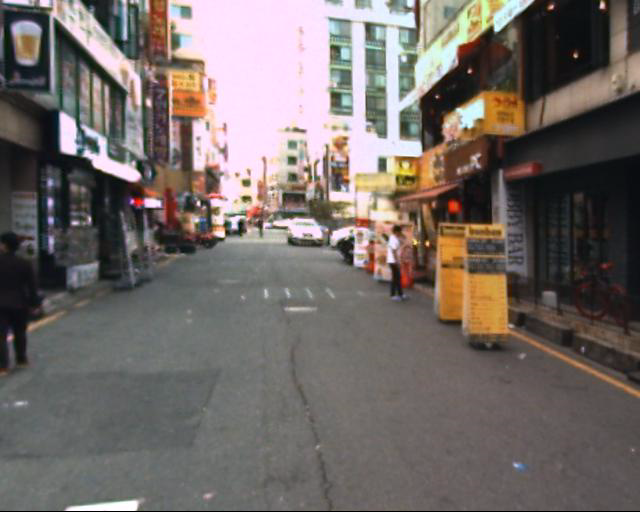person: (1, 221, 55, 375), (380, 217, 416, 305)
